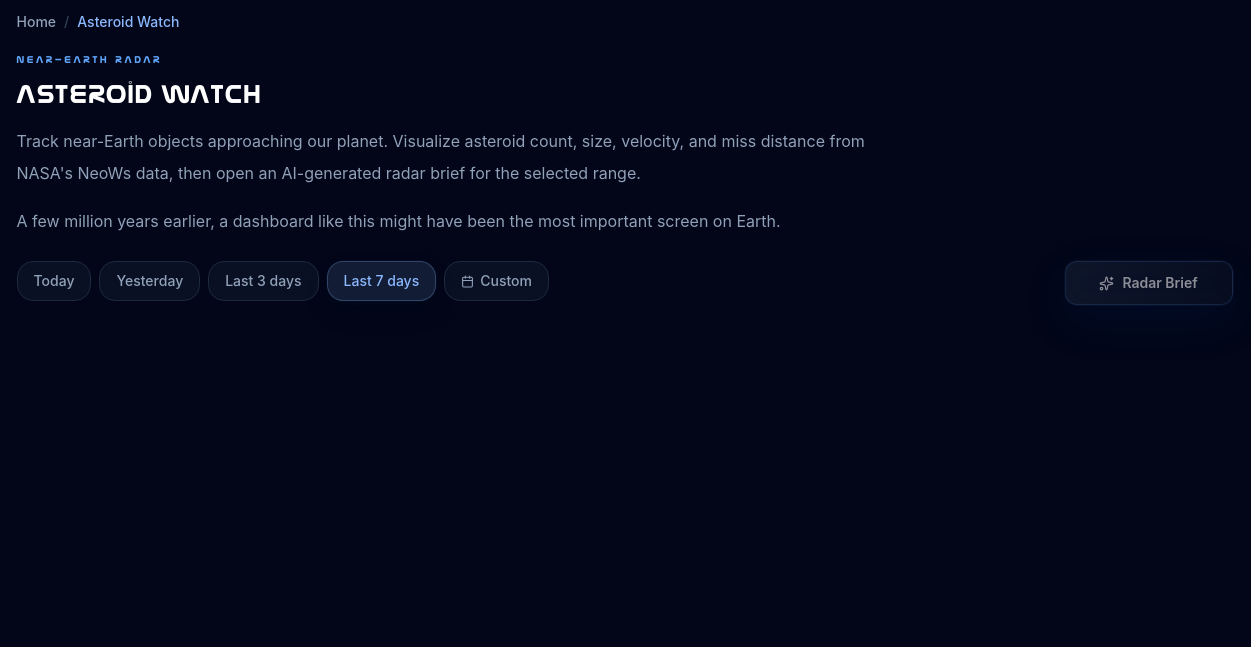
Test: AsteroidWatchPage › switches between Single date and Date range calendar modes
Step 1. Click the button "Custom" → (497, 281), box [444, 261, 549, 301]
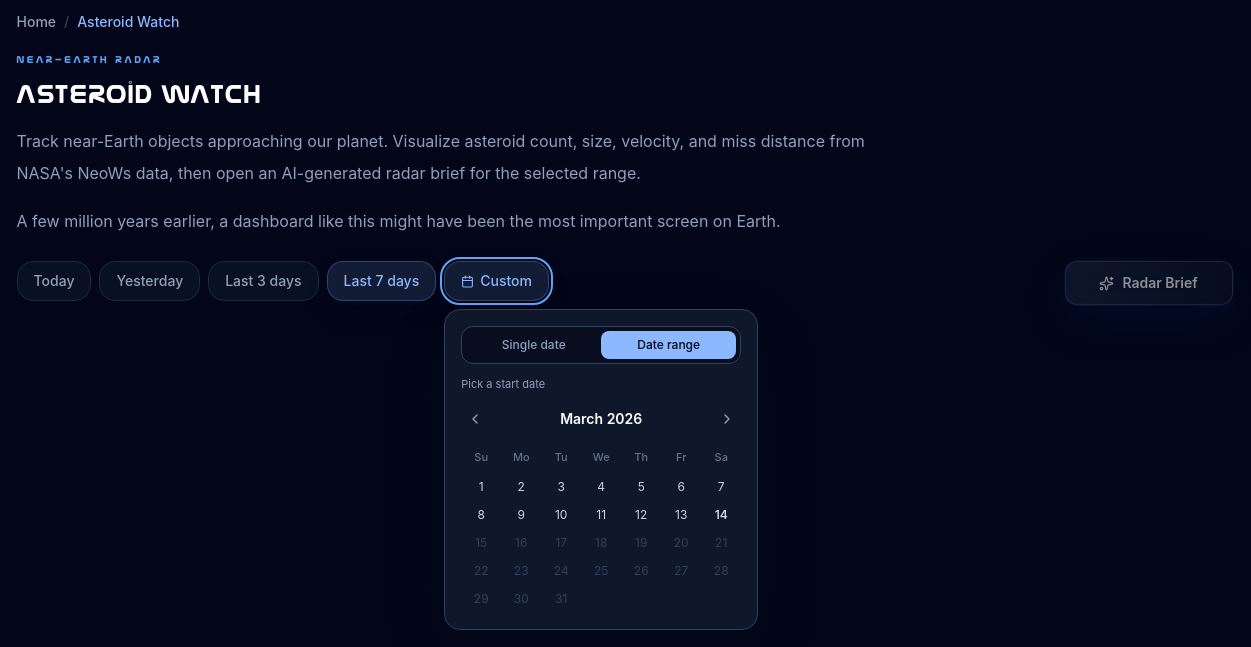
Expected: the text "Pick a start date" is shown, [461, 377, 545, 391]
Step 2. Click the button "Single date" → (534, 345), box [466, 331, 601, 359]
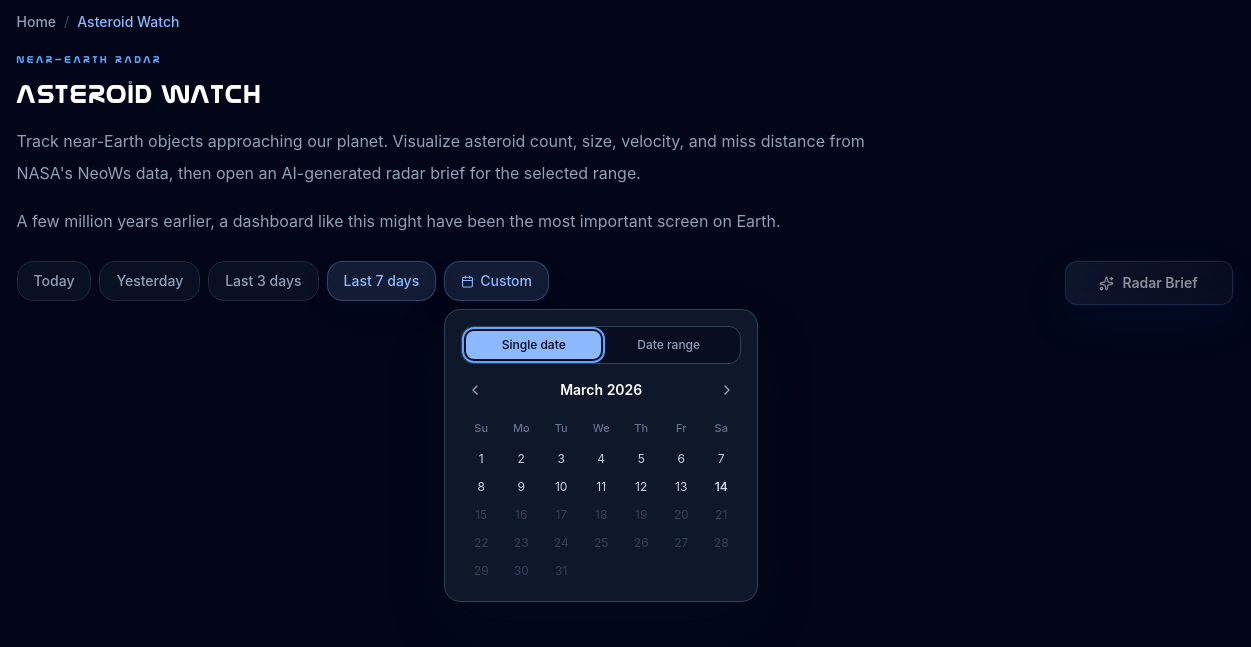
Expected: the text "Pick a start date" is gone
Step 3. Click the button "Date range" → (669, 345), box [601, 331, 736, 359]
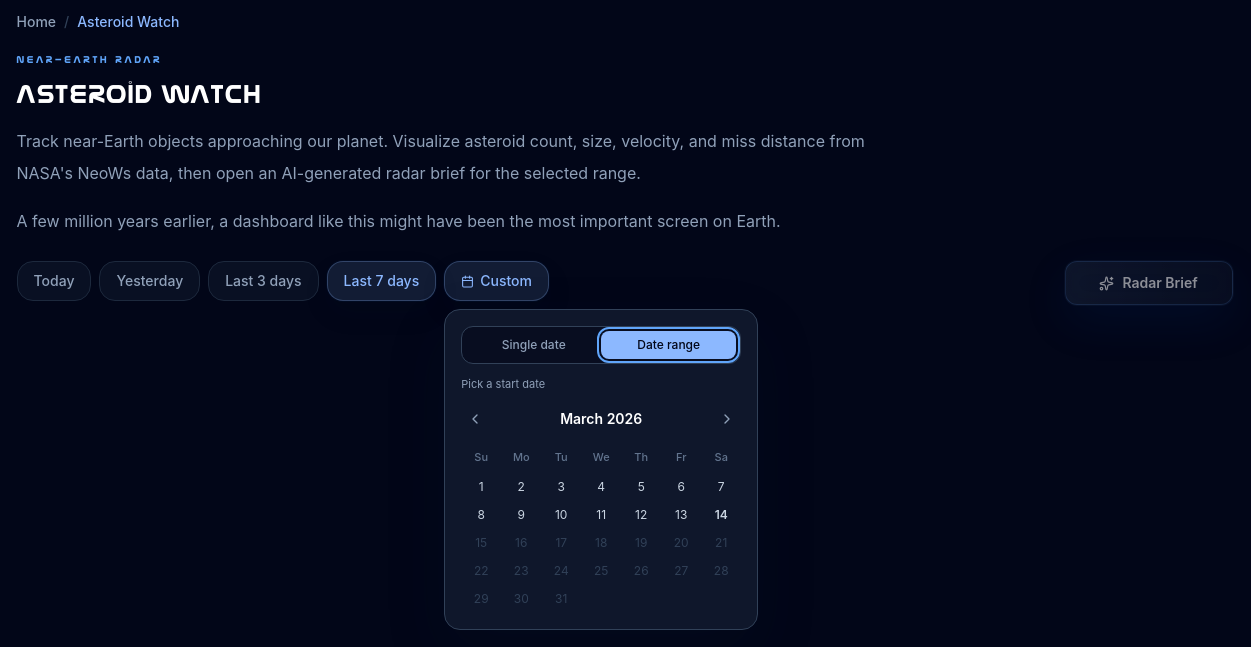
Expected: the text "Pick a start date" is shown, [461, 377, 545, 391]
